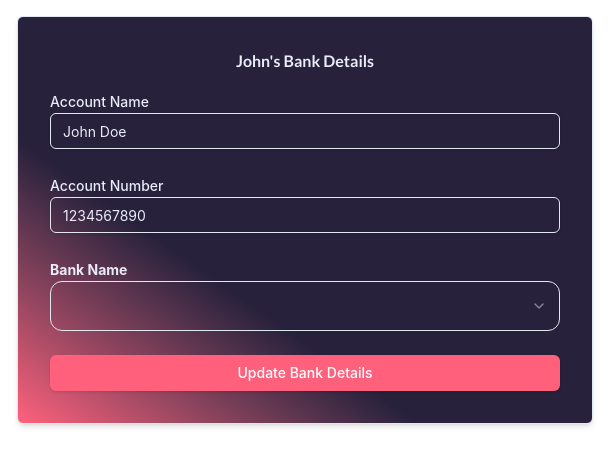
Test: EditBankDetails › shows validation error when account number is too short
Replace the text in the field with placeholder "Enter your account number" with "123" at (305, 215), box [50, 197, 560, 233]
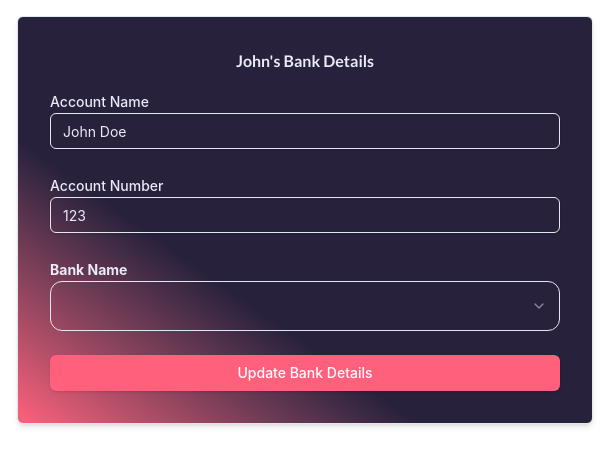
Click the button "Update Bank Details".
click(305, 373)  # box [50, 355, 560, 391]
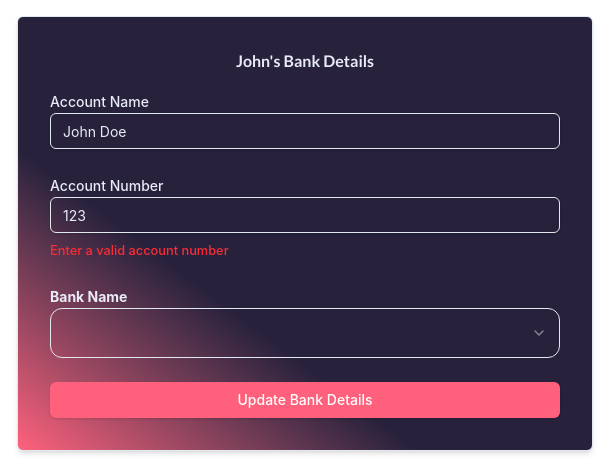
Check: the text "Enter a valid account number" is shown, box [50, 243, 229, 258]
